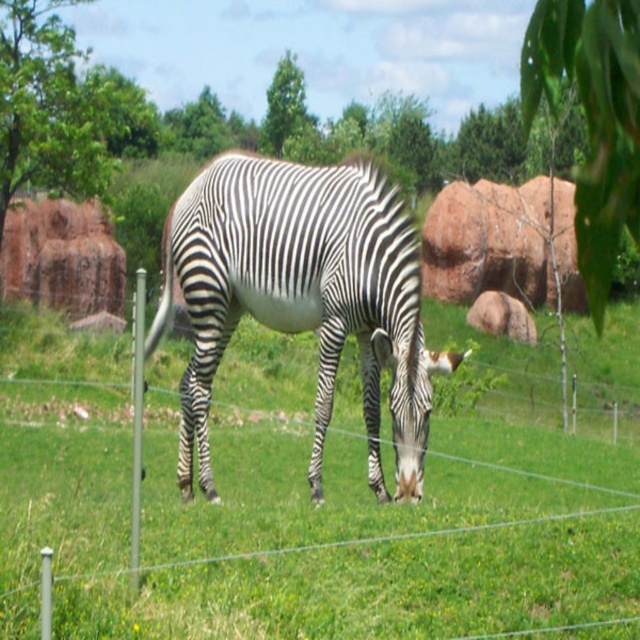Zebra: (143, 147, 474, 513)
